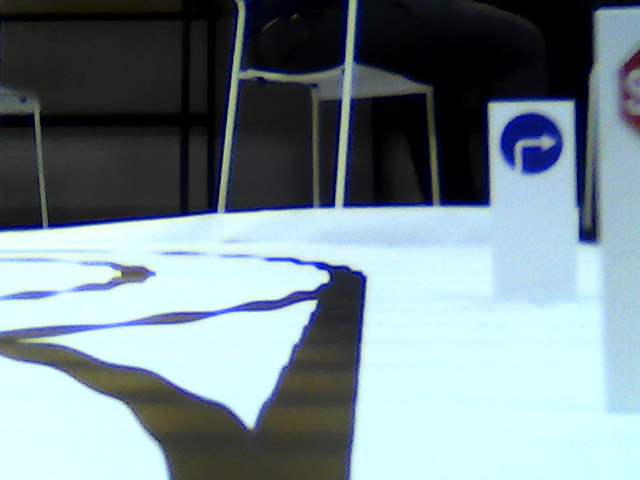Right: (499, 110, 566, 175)
